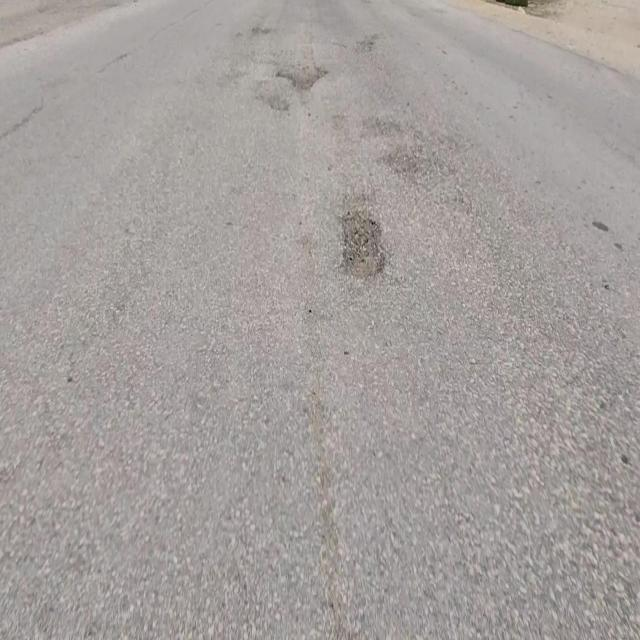Potholes: (342, 207, 386, 284), (276, 63, 327, 112)
